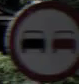No overtake: (6, 10, 77, 69)
